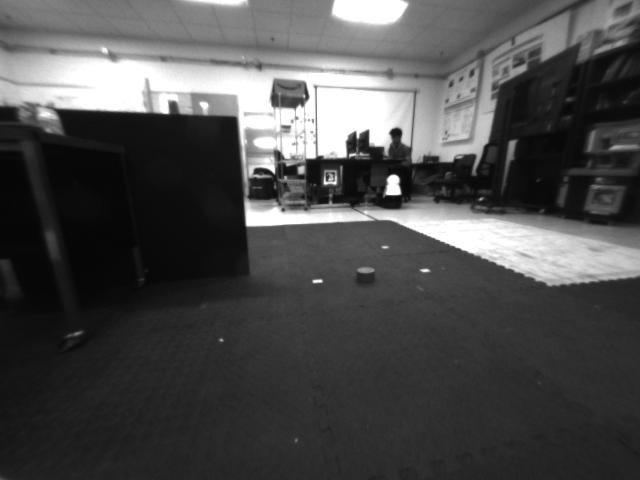dogtoy: (347, 256, 380, 291)
